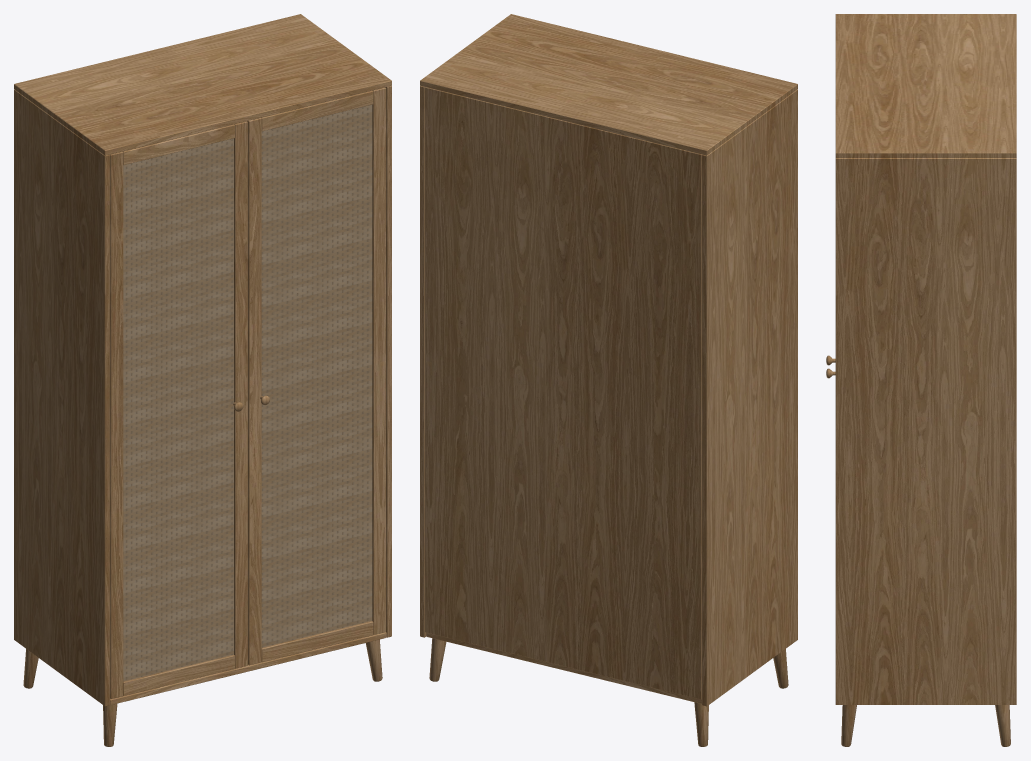
Rendered from armario_rejilla_100.glb.
3 renders of one model, left to right at view 1: azimuth 30°, elevation 25°; view 2: azimuth 150°, elevation 25°; view 3: azimuth 270°, elevation 25°, orthographic.
Parts seen in each view (by area): view 1: armario_rejilla_100; view 2: armario_rejilla_100; view 3: armario_rejilla_100.
Part boxes in pixels (box(x1,y1,x2,y2)): armario_rejilla_100: box(14, 14, 391, 746); armario_rejilla_100: box(420, 14, 797, 746); armario_rejilla_100: box(826, 14, 1016, 746).
Size of the model in its own units: 0.9999 by 2 by 0.578.
2 materials, 2 textured.
